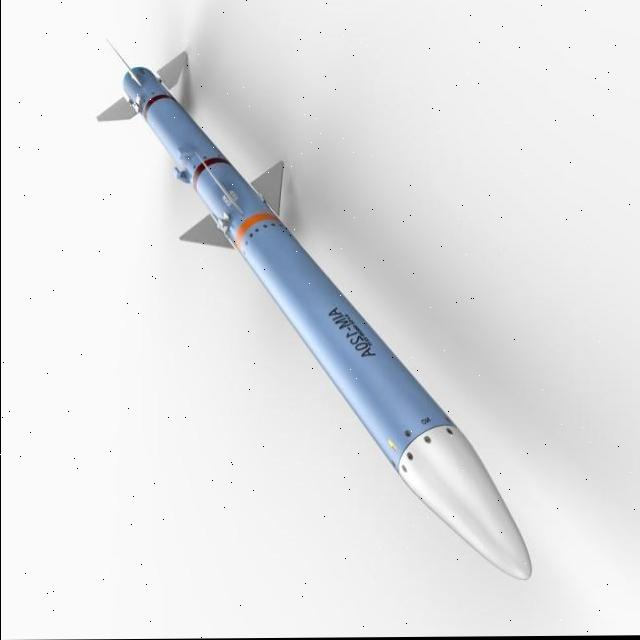missile: (92, 34, 536, 589)
